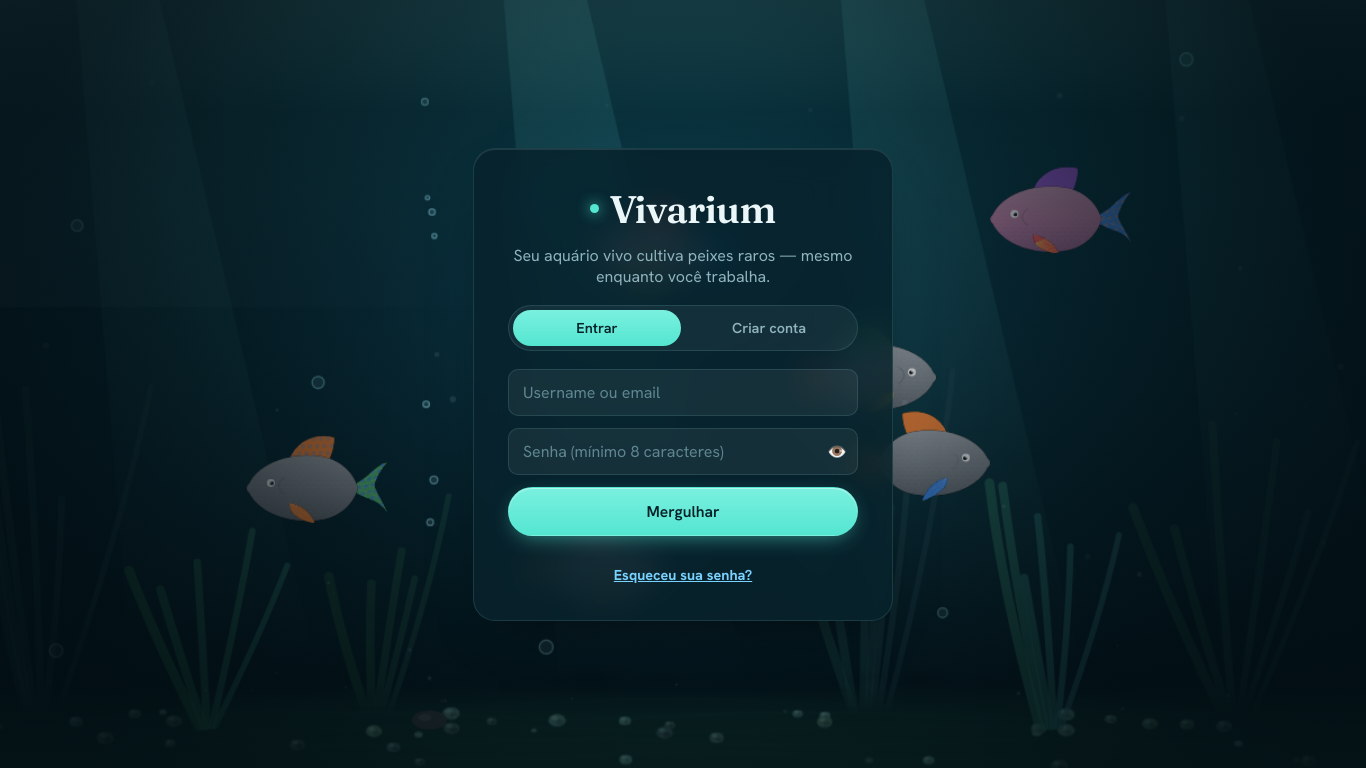
Registro de cruzamentos › abre pelo botão do Ninho e lista as gestações passadas
Type "jogador1" into the field with placeholder "Username ou email" at (683, 393), box [508, 369, 858, 416]
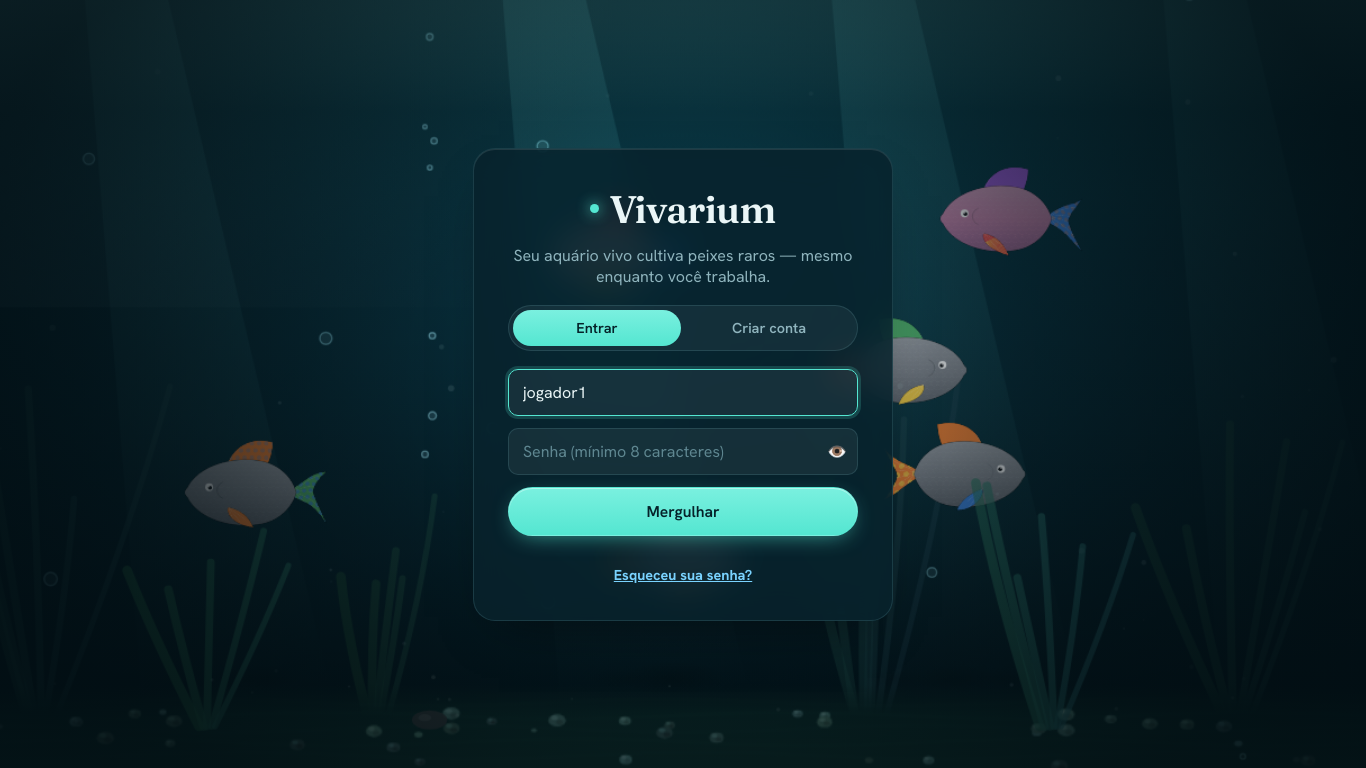
Type "senha-forte-123" into the password field with placeholder "Senha (mínimo 8 caracteres)" at (683, 452), box [508, 428, 858, 475]
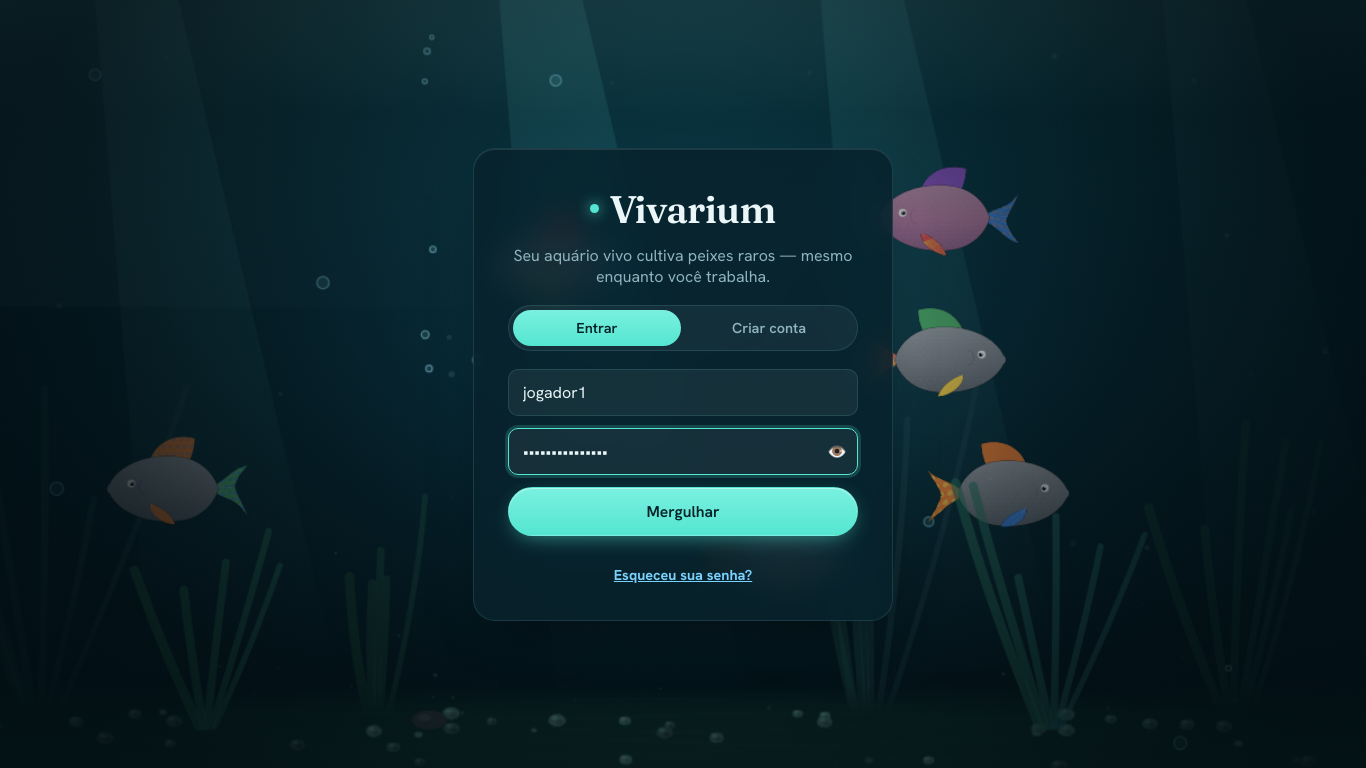
Click the button "Mergulhar" at (683, 512), box [508, 487, 858, 536]
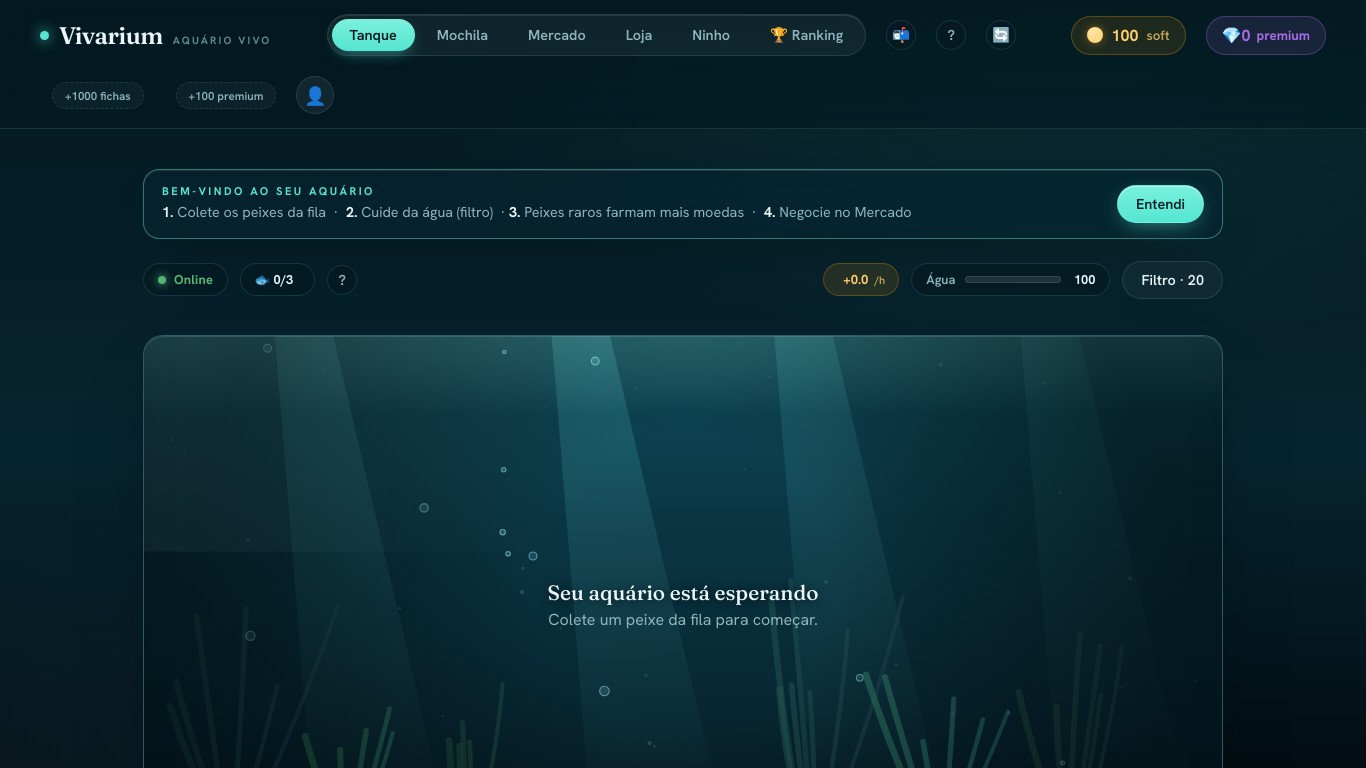
Click the button "Ninho" at (711, 35), box [674, 19, 748, 51]
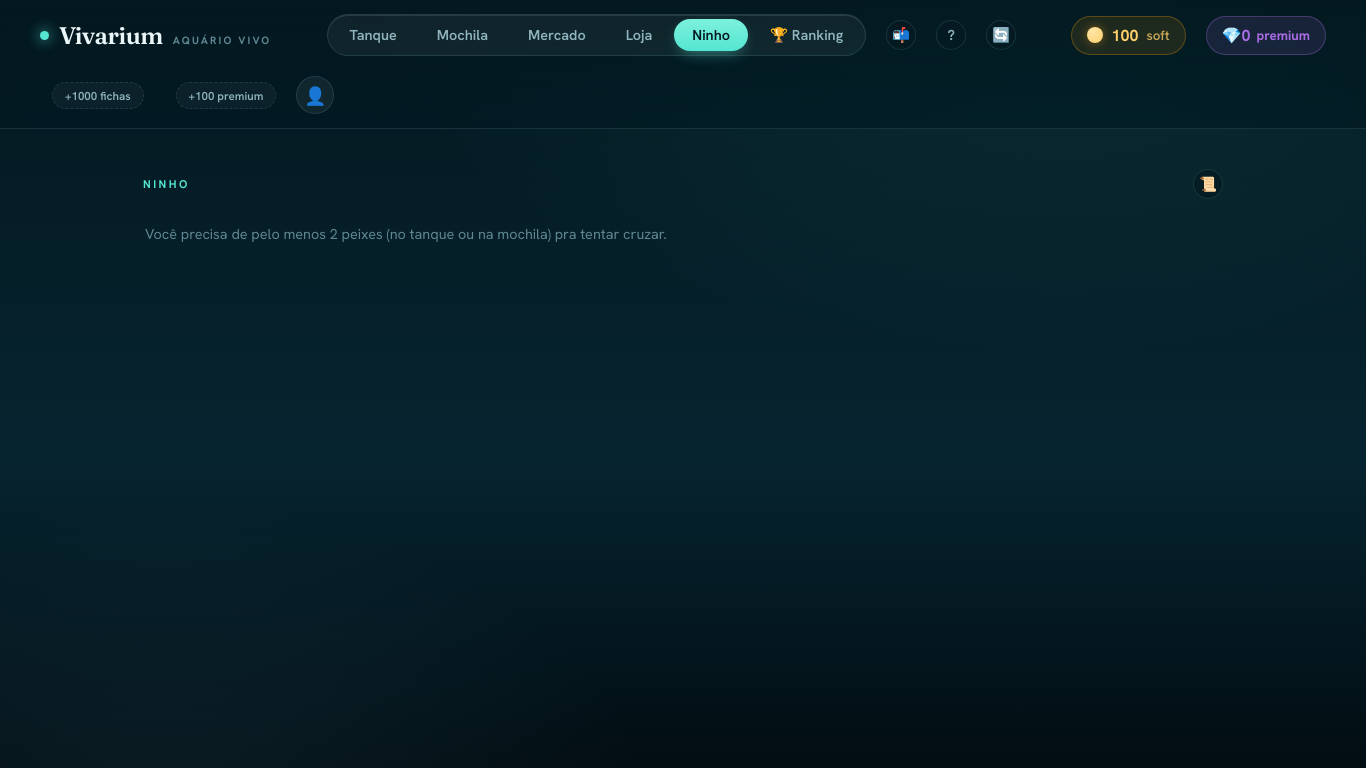
Click the button titled "Registro de cruzamentos" at (1208, 184), box [1193, 169, 1223, 199]
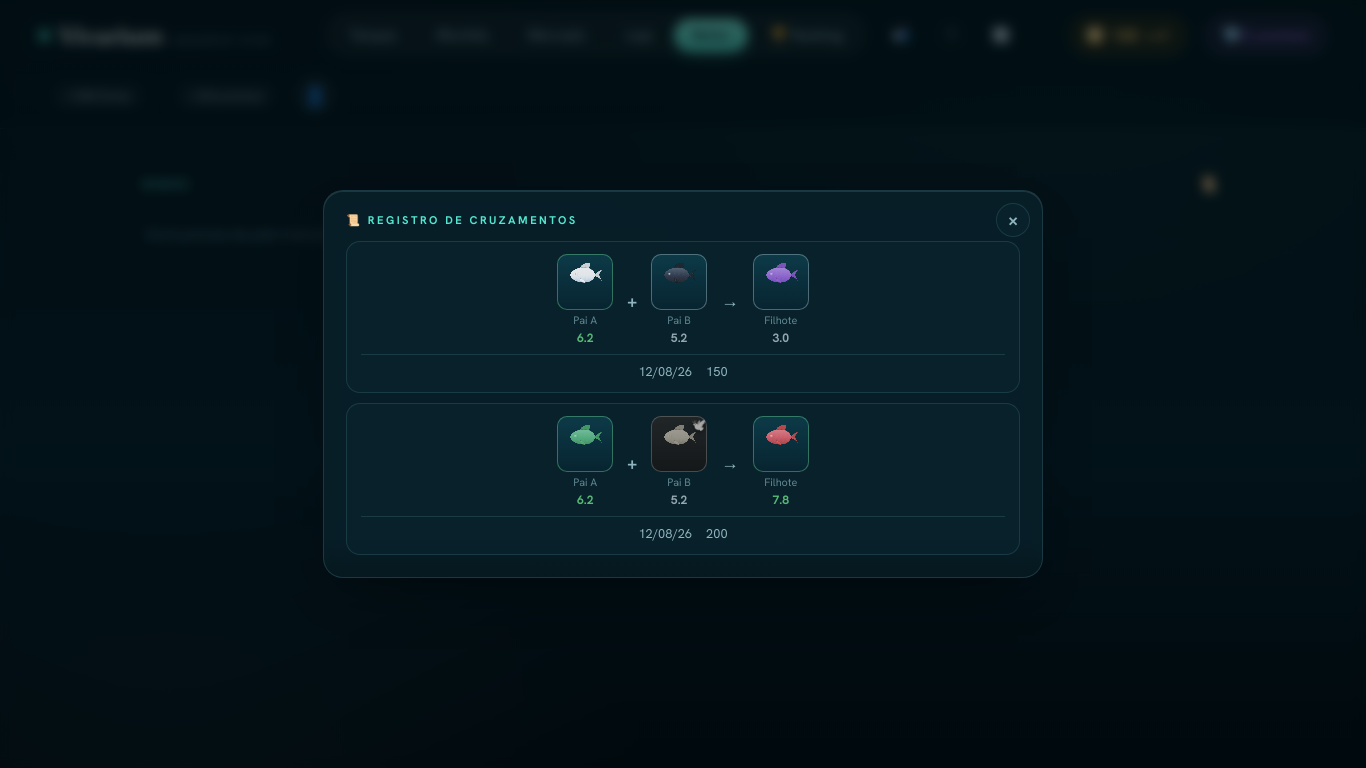
Result: the text "Registro de cruzamentos" is shown at [346, 213, 578, 227]
Result: the number of elements with class "hist-entry" is 2 at [346, 241, 1020, 393]; [346, 403, 1020, 555]
Result: the text "🕊️" is shown at [691, 417, 706, 433]
